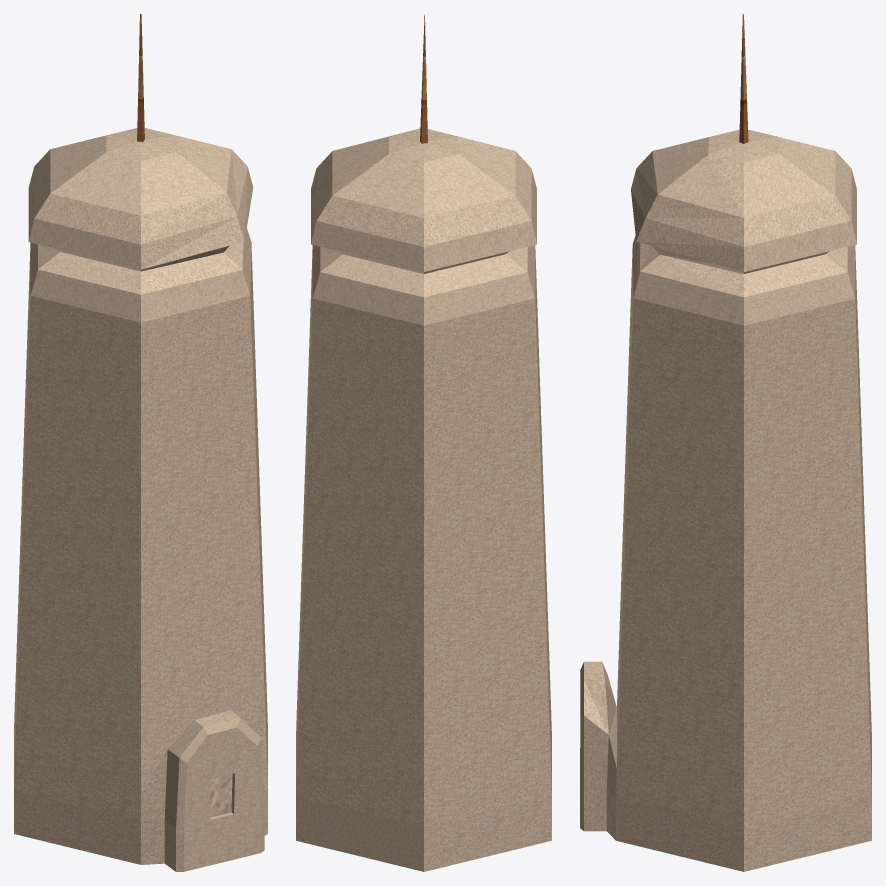
The model's file is thm_tato_imprv_building_s06_l2.fbx.
The picture shows the model from 3 angles, left to right: view 1: azimuth 30°, elevation 25°; view 2: azimuth 150°, elevation 25°; view 3: azimuth 270°, elevation 25°; orthographic projection.
Parts seen in each view (by area): view 1: mesh_node; view 2: mesh_node; view 3: mesh_node.
Part boxes in pixels (left/top/right/bottom): mesh_node: left=14, top=14, right=267, bottom=871; mesh_node: left=296, top=14, right=551, bottom=871; mesh_node: left=580, top=14, right=871, bottom=871.
Size of the model in its own units: 20.02 by 59.46 by 19.78.
